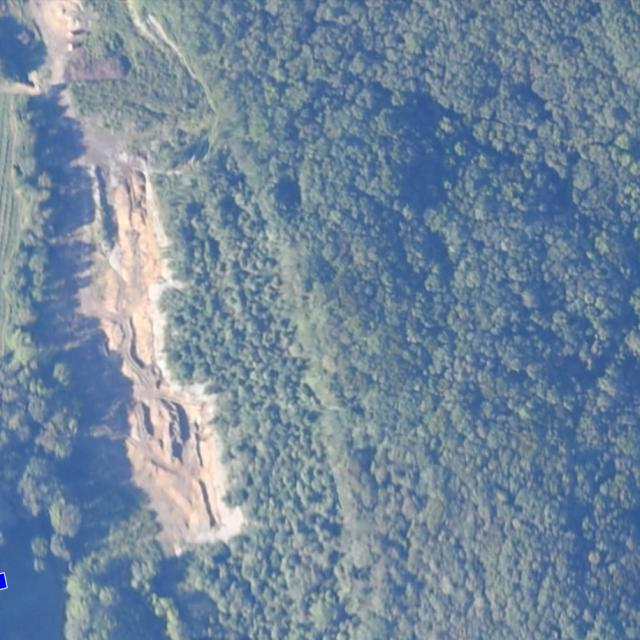landslide: (78, 121, 243, 556)
